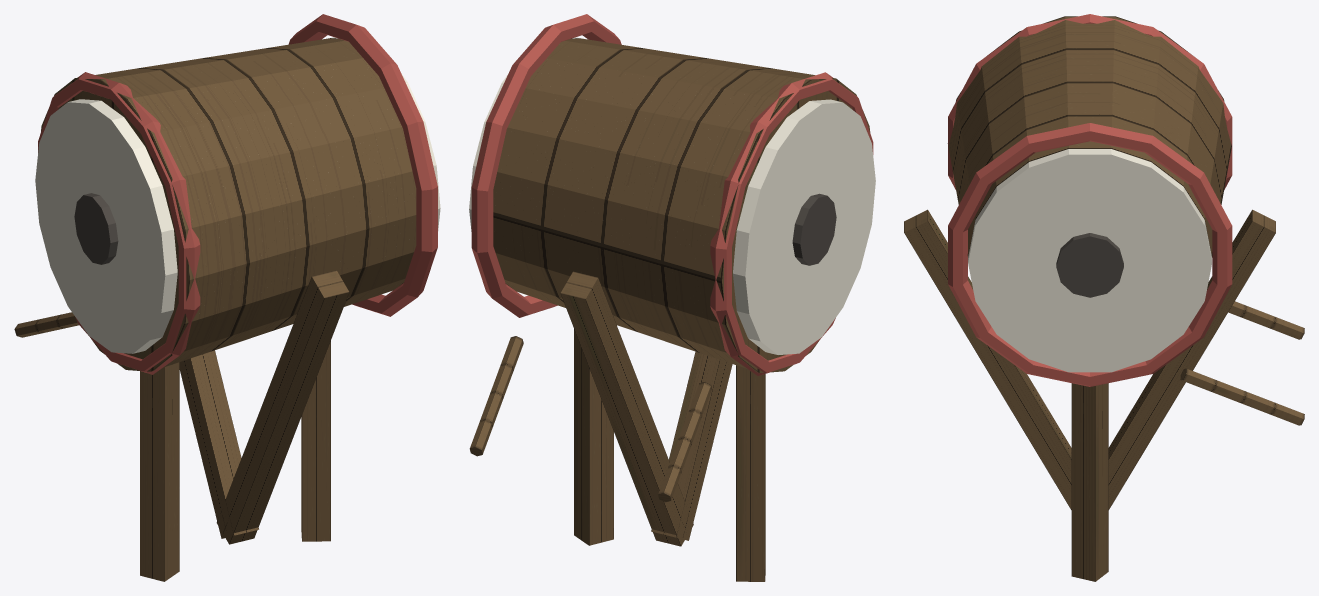
Rendered from san-dinh-trong-dinh.glb.
3 views of the same model, side by side, from view 1: azimuth 30°, elevation 25°; view 2: azimuth 150°, elevation 25°; view 3: azimuth 270°, elevation 25° (orthographic). The views are drawn at different scales.
Visible parts, largest first — view 1: san-dinh-trong-dinh; view 2: san-dinh-trong-dinh; view 3: san-dinh-trong-dinh.
Part boxes in pixels (x1=…): san-dinh-trong-dinh: x1=14, y1=14, x2=440, y2=581; san-dinh-trong-dinh: x1=469, y1=14, x2=875, y2=581; san-dinh-trong-dinh: x1=904, y1=14, x2=1304, y2=581.
Bounding box in the file's own units: 0.93 × 1.53 × 1.18.
Materials: 4 (1 with a texture image).
